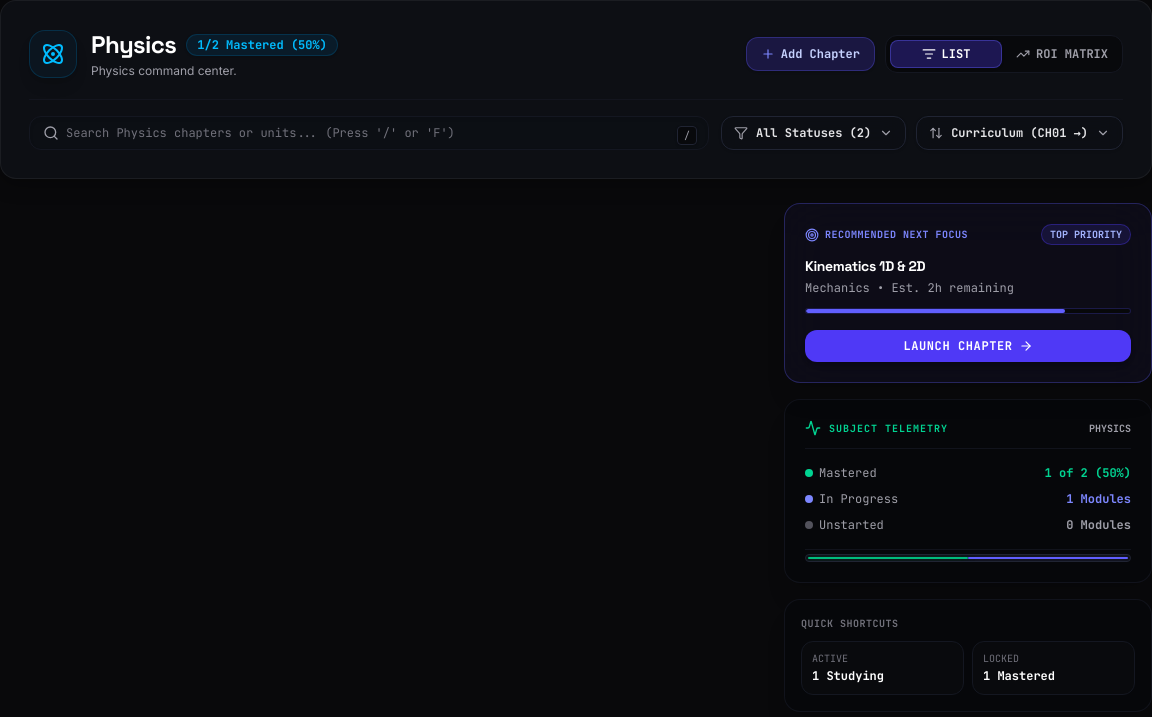
Scenario: SubjectDetailPage Feature View (Magnitude 5.1) › toggles view mode to ROI Matrix and renders weightage data
Click the button "ROI Matrix".
click(1062, 54)  # box left=1006, top=40, right=1118, bottom=68
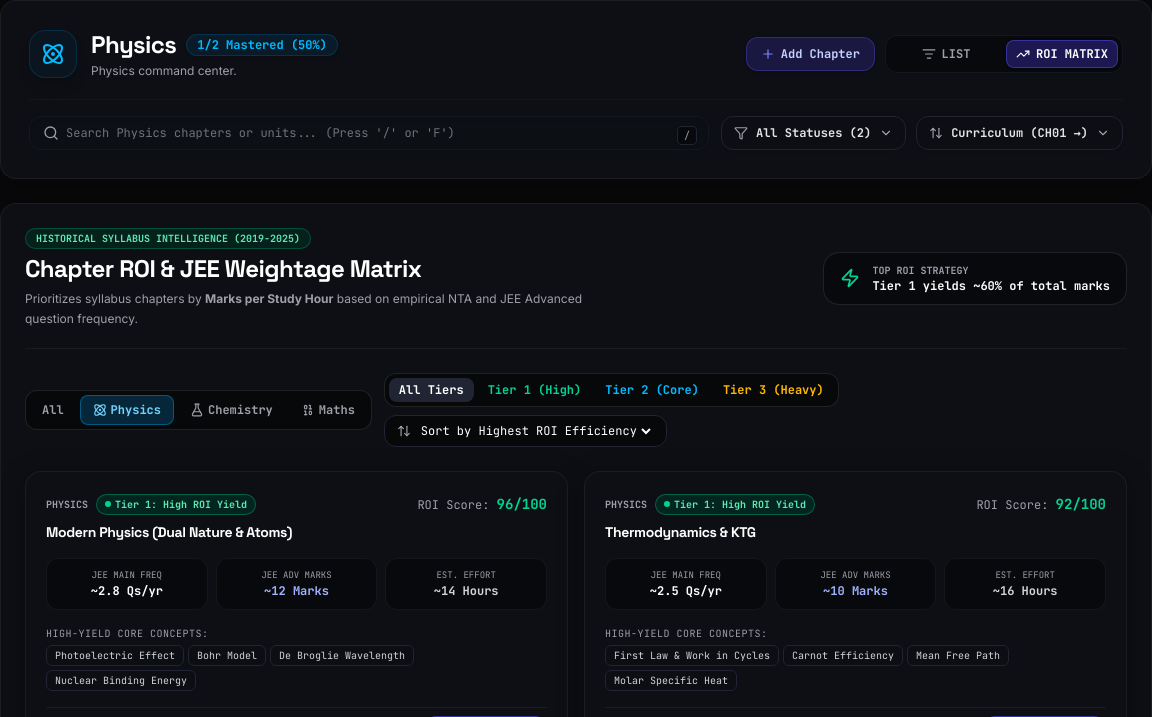
Now the heading "Chapter ROI & JEE Weightage Matrix" is shown, box left=25, top=253, right=421, bottom=284
